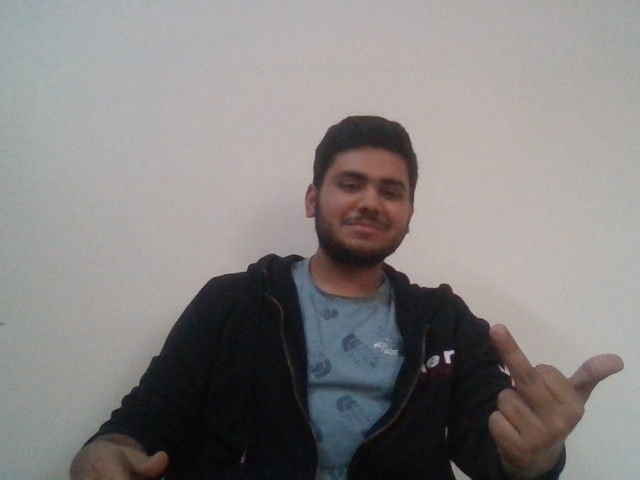Hello: (469, 314, 630, 464)
